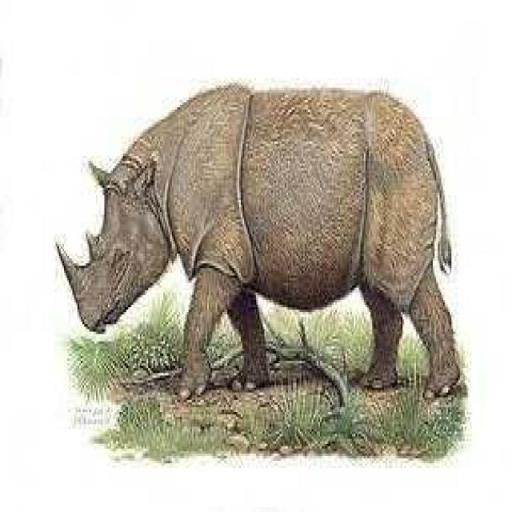Rhino: (54, 78, 463, 410)
